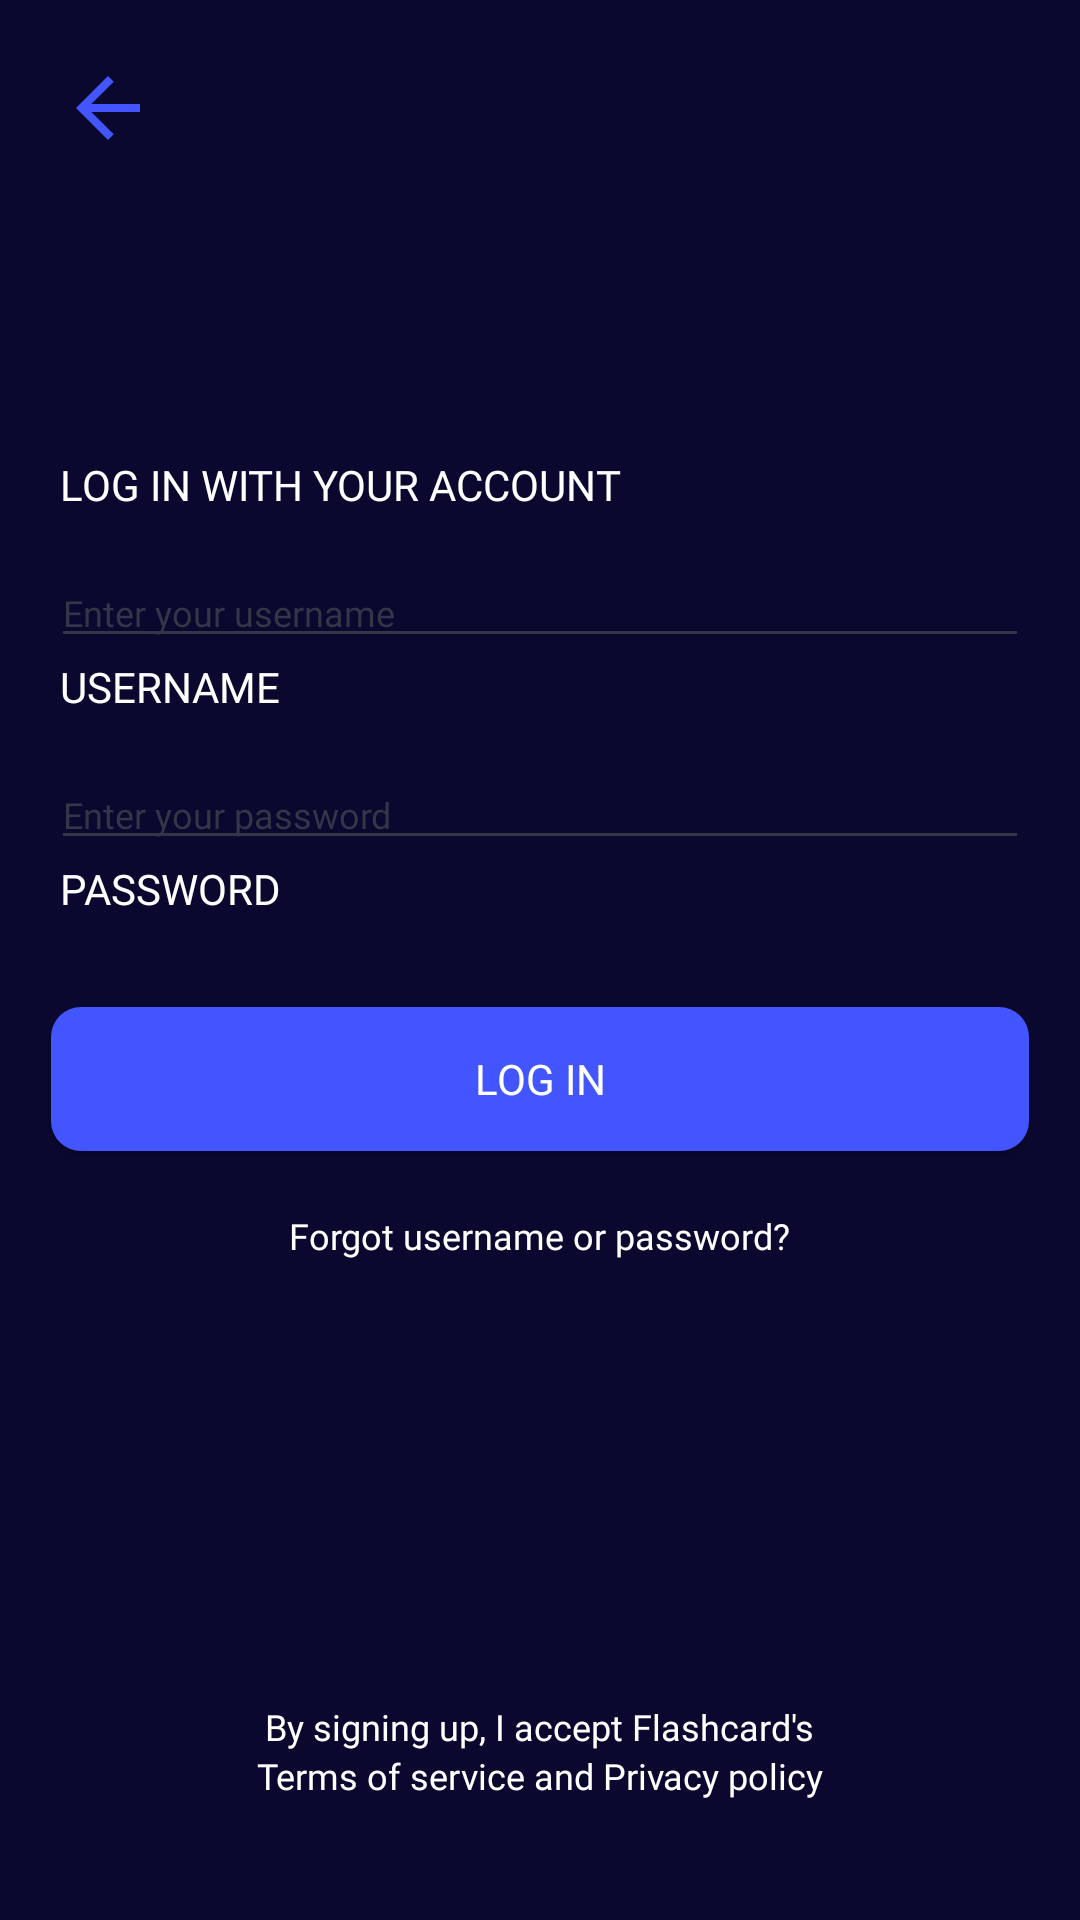

Named icons in this screenshot (1080px x 1920px) and their centers, point (x, y):
arrow back: point (108, 108)
